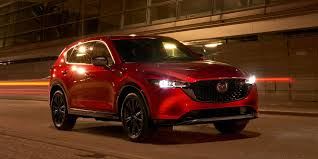car: (46, 35, 259, 143)
